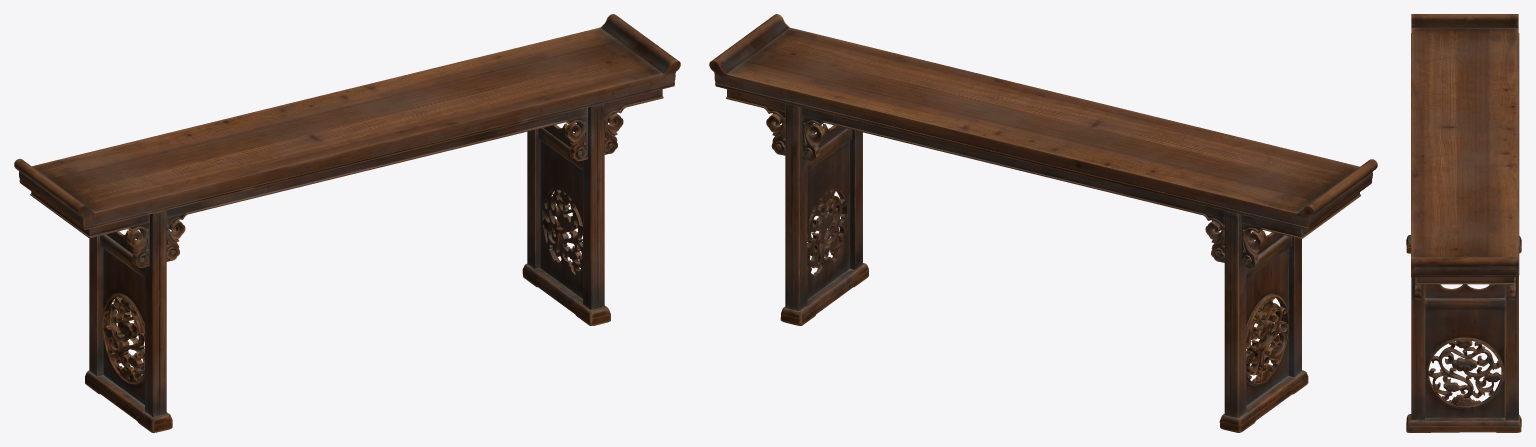
Rendered from chinese_console_table.glb.
The picture shows the model from 3 angles, left to right: view 1: azimuth 30°, elevation 25°; view 2: azimuth 150°, elevation 25°; view 3: azimuth 270°, elevation 25°; orthographic projection. The views are drawn at different scales.
Parts seen in each view (by area): view 1: chinese_console_table; view 2: chinese_console_table; view 3: chinese_console_table.
Part boxes in pixels (x1,y1,x2,y2): chinese_console_table: (14, 14, 680, 432); chinese_console_table: (709, 14, 1377, 432); chinese_console_table: (1406, 14, 1521, 432).
Bounding box in the file's own units: 1.72 × 0.6607 × 0.3388.
Materials: 1 (1 with a texture image).
